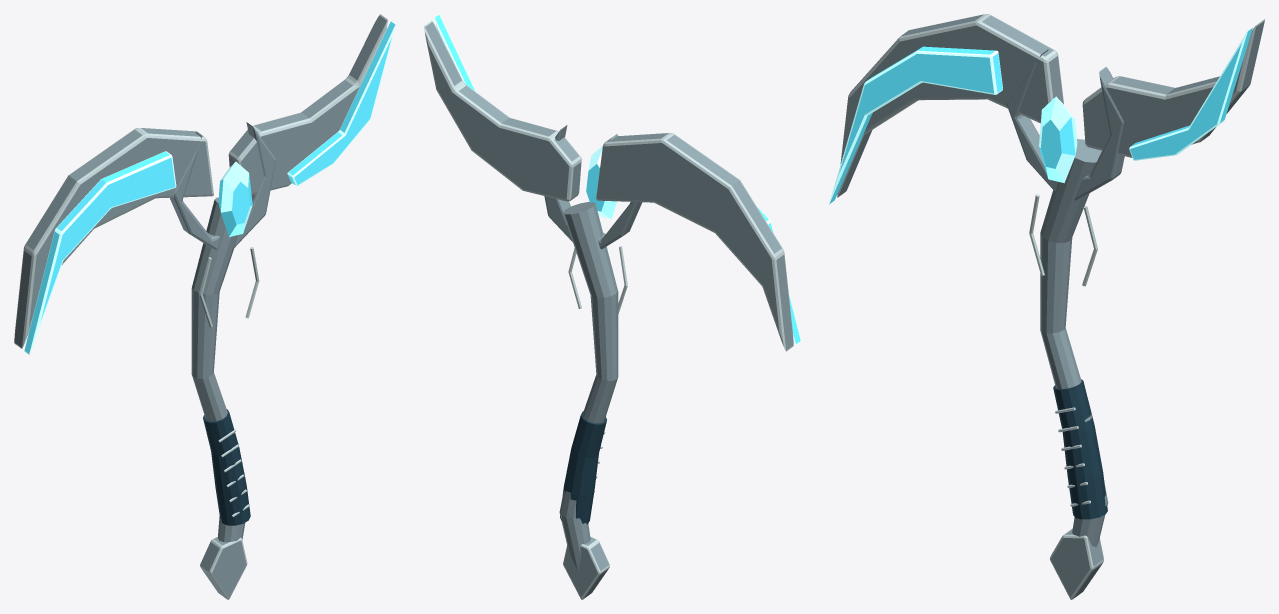
File: BH_PICK_P06_Presa_Espectral_V02.glb
The picture shows the model from 3 angles, left to right: view 1: azimuth 30°, elevation 25°; view 2: azimuth 150°, elevation 25°; view 3: azimuth 330°, elevation 25°; orthographic projection. The views are drawn at different scales.
Visible parts, largest first — view 1: P06 | descending lunar fang.001, P06 | ascending lunar fang.001, P06 | descending cyan blade.001, P06 | flowing silver staff.001, P06 | ascending cyan blade.001, P06 | blue leather grip.001, P06 | soul open frame.001, P06 | tapered pommel.001, P06 | soul tear.001; view 2: P06 | descending lunar fang.001, P06 | ascending lunar fang.001, P06 | flowing silver staff.001, P06 | blue leather grip.001, P06 | tapered pommel.001, P06 | soul open frame.001, P06 | soul tear.001, P06 | ascending cyan blade.001; view 3: P06 | descending lunar fang.001, P06 | flowing silver staff.001, P06 | ascending lunar fang.001, P06 | descending cyan blade.001, P06 | blue leather grip.001, P06 | soul open frame.001, P06 | ascending cyan blade.001, P06 | soul tear.001, P06 | tapered pommel.001.
Boxes of the visible parts, box(x1,y1,x2,y2) form: P06 | descending lunar fang.001: box(14, 128, 213, 348); P06 | ascending lunar fang.001: box(228, 14, 387, 194); P06 | descending cyan blade.001: box(24, 151, 176, 354); P06 | flowing silver staff.001: box(191, 197, 245, 542); P06 | ascending cyan blade.001: box(287, 21, 395, 185); P06 | blue leather grip.001: box(203, 409, 250, 525); P06 | soul open frame.001: box(170, 122, 275, 249); P06 | tapered pommel.001: box(200, 537, 247, 599); P06 | soul tear.001: box(218, 161, 252, 236); P06 | descending lunar fang.001: box(596, 133, 793, 351); P06 | ascending lunar fang.001: box(424, 20, 581, 201); P06 | flowing silver staff.001: box(559, 202, 618, 571); P06 | blue leather grip.001: box(560, 411, 606, 524); P06 | tapered pommel.001: box(563, 536, 609, 599); P06 | soul open frame.001: box(544, 125, 642, 249); P06 | soul tear.001: box(586, 146, 617, 218); P06 | ascending cyan blade.001: box(434, 14, 475, 91); P06 | descending lunar fang.001: box(837, 14, 1063, 197); P06 | flowing silver staff.001: box(1040, 139, 1108, 547); P06 | ascending lunar fang.001: box(1082, 19, 1264, 157); P06 | descending cyan blade.001: box(829, 46, 1002, 204); P06 | blue leather grip.001: box(1053, 379, 1107, 519); P06 | soul open frame.001: box(1007, 49, 1124, 200); P06 | ascending cyan blade.001: box(1129, 27, 1252, 160); P06 | soul tear.001: box(1039, 96, 1077, 183); P06 | tapered pommel.001: box(1050, 528, 1103, 599).
Bounding box in the file's own units: 2.46 × 3.47 × 0.3306.
